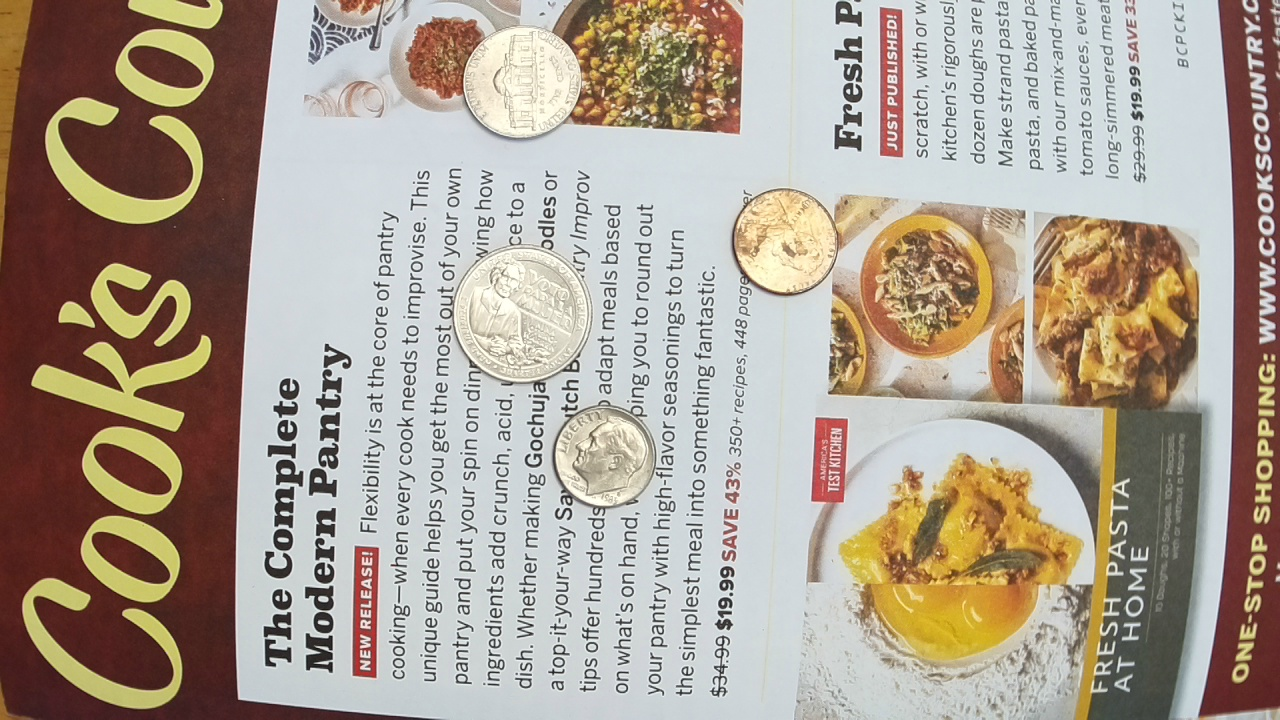dime: (551, 403, 655, 509)
nickel: (457, 22, 587, 144)
penny: (726, 182, 840, 302)
quarter: (451, 242, 591, 384)
